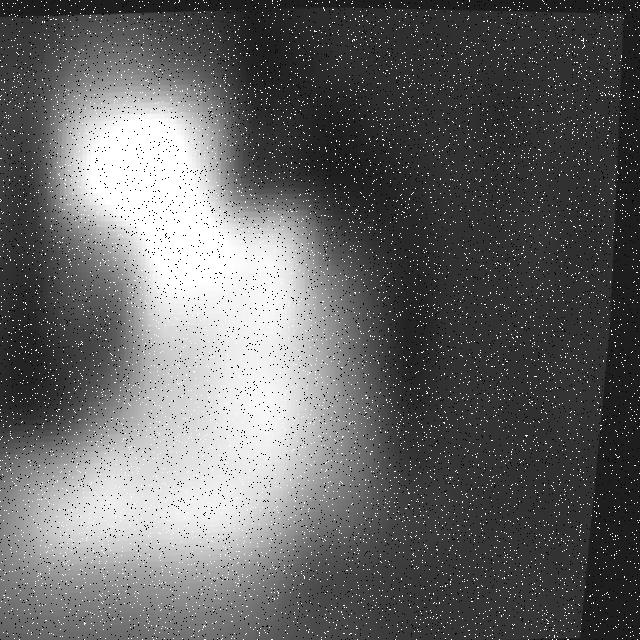person: (1, 1, 431, 597)
